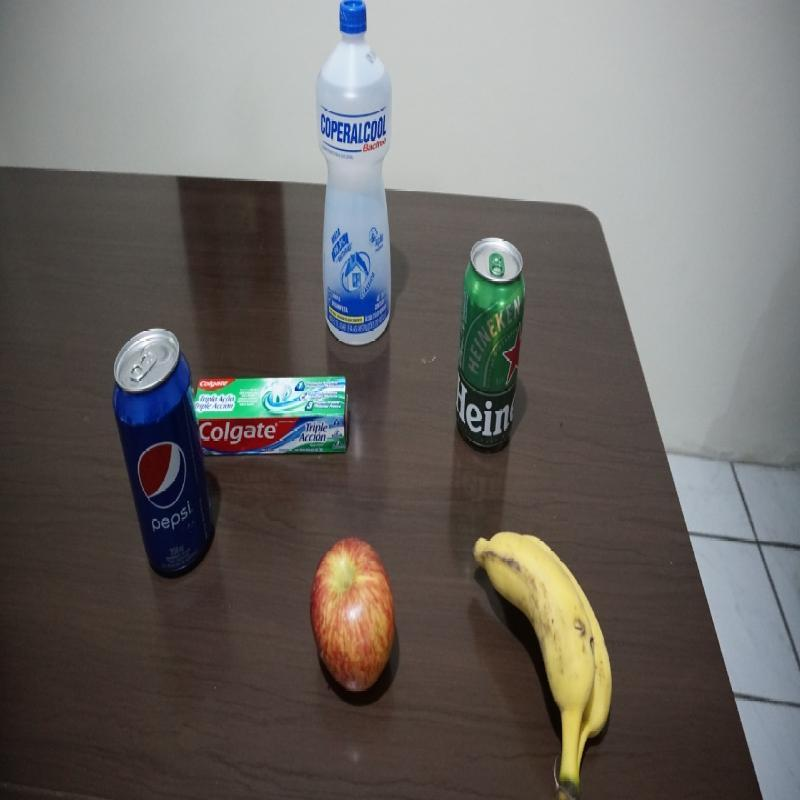Alcohol Bottle: (315, 1, 400, 347)
Apple: (309, 538, 397, 696)
Banana: (470, 531, 617, 799)
Beer can: (452, 236, 526, 456)
Soda can: (111, 326, 213, 580)
Toothpaste: (195, 373, 350, 456)
